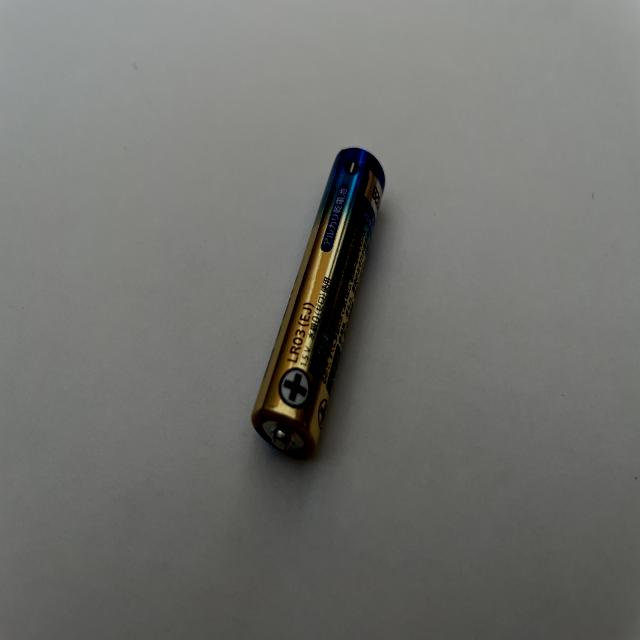AAA: (249, 146, 388, 464)
